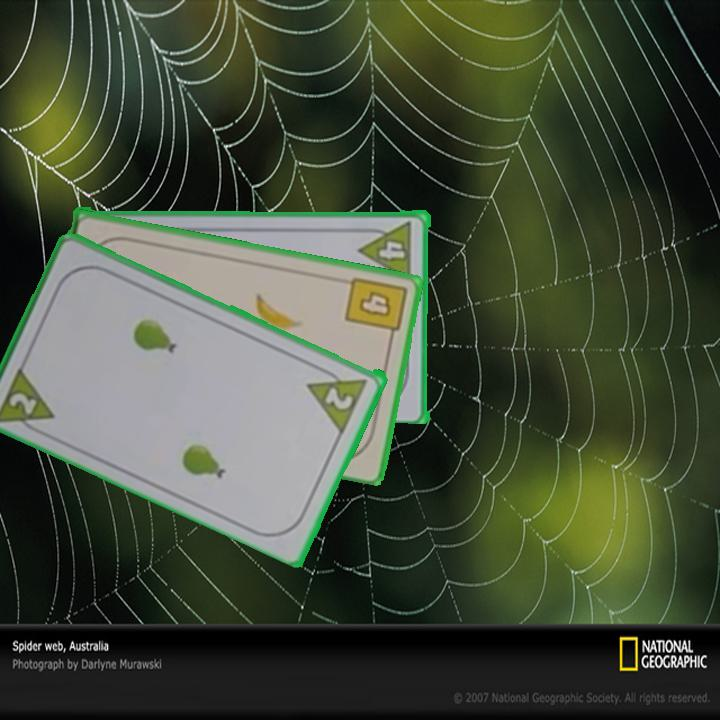2p: (321, 383, 357, 413), (5, 388, 41, 418)
4b: (341, 272, 410, 345)
4p: (358, 235, 410, 282)
